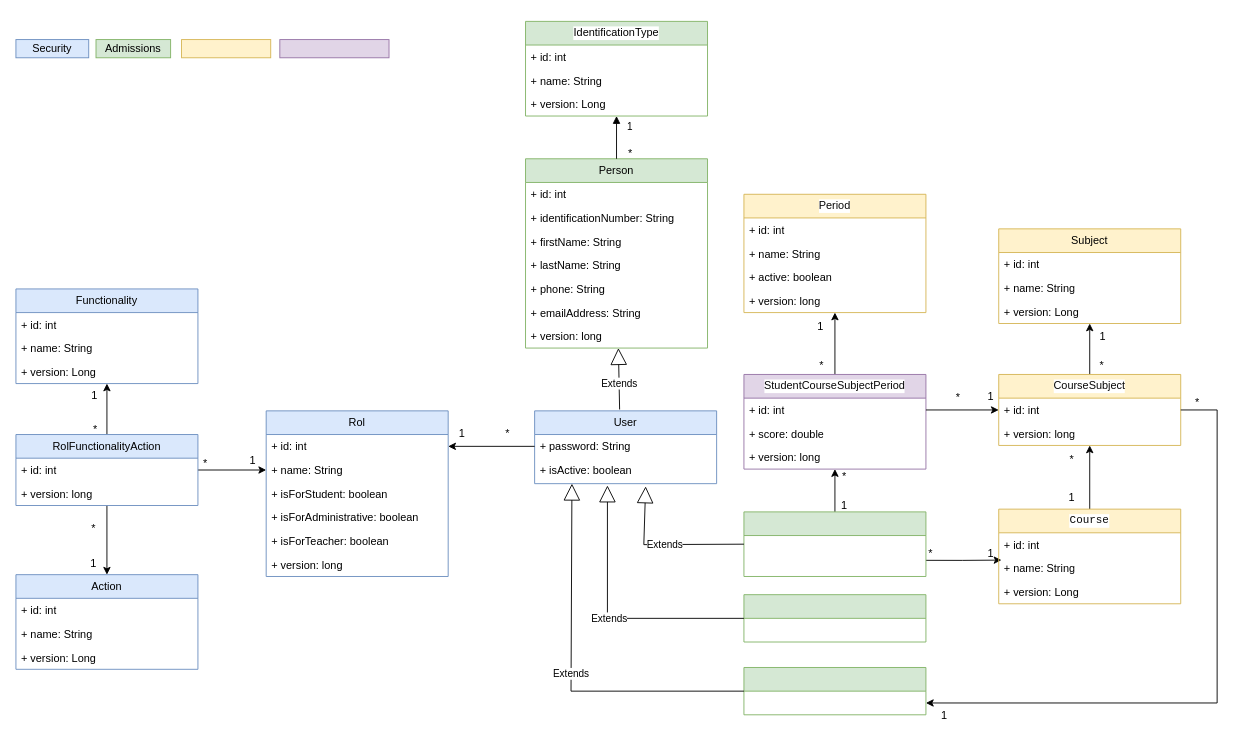
This 1240x745 diagram has some shape labels left out. Each missing label, with the centre of its shape:
"Academic Plans" goes at (226,48).
"Administrative" goes at (834,618).
"Grades Management" goes at (334,48).
"Student" goes at (834,543).
"Teacher" goes at (834,691).
